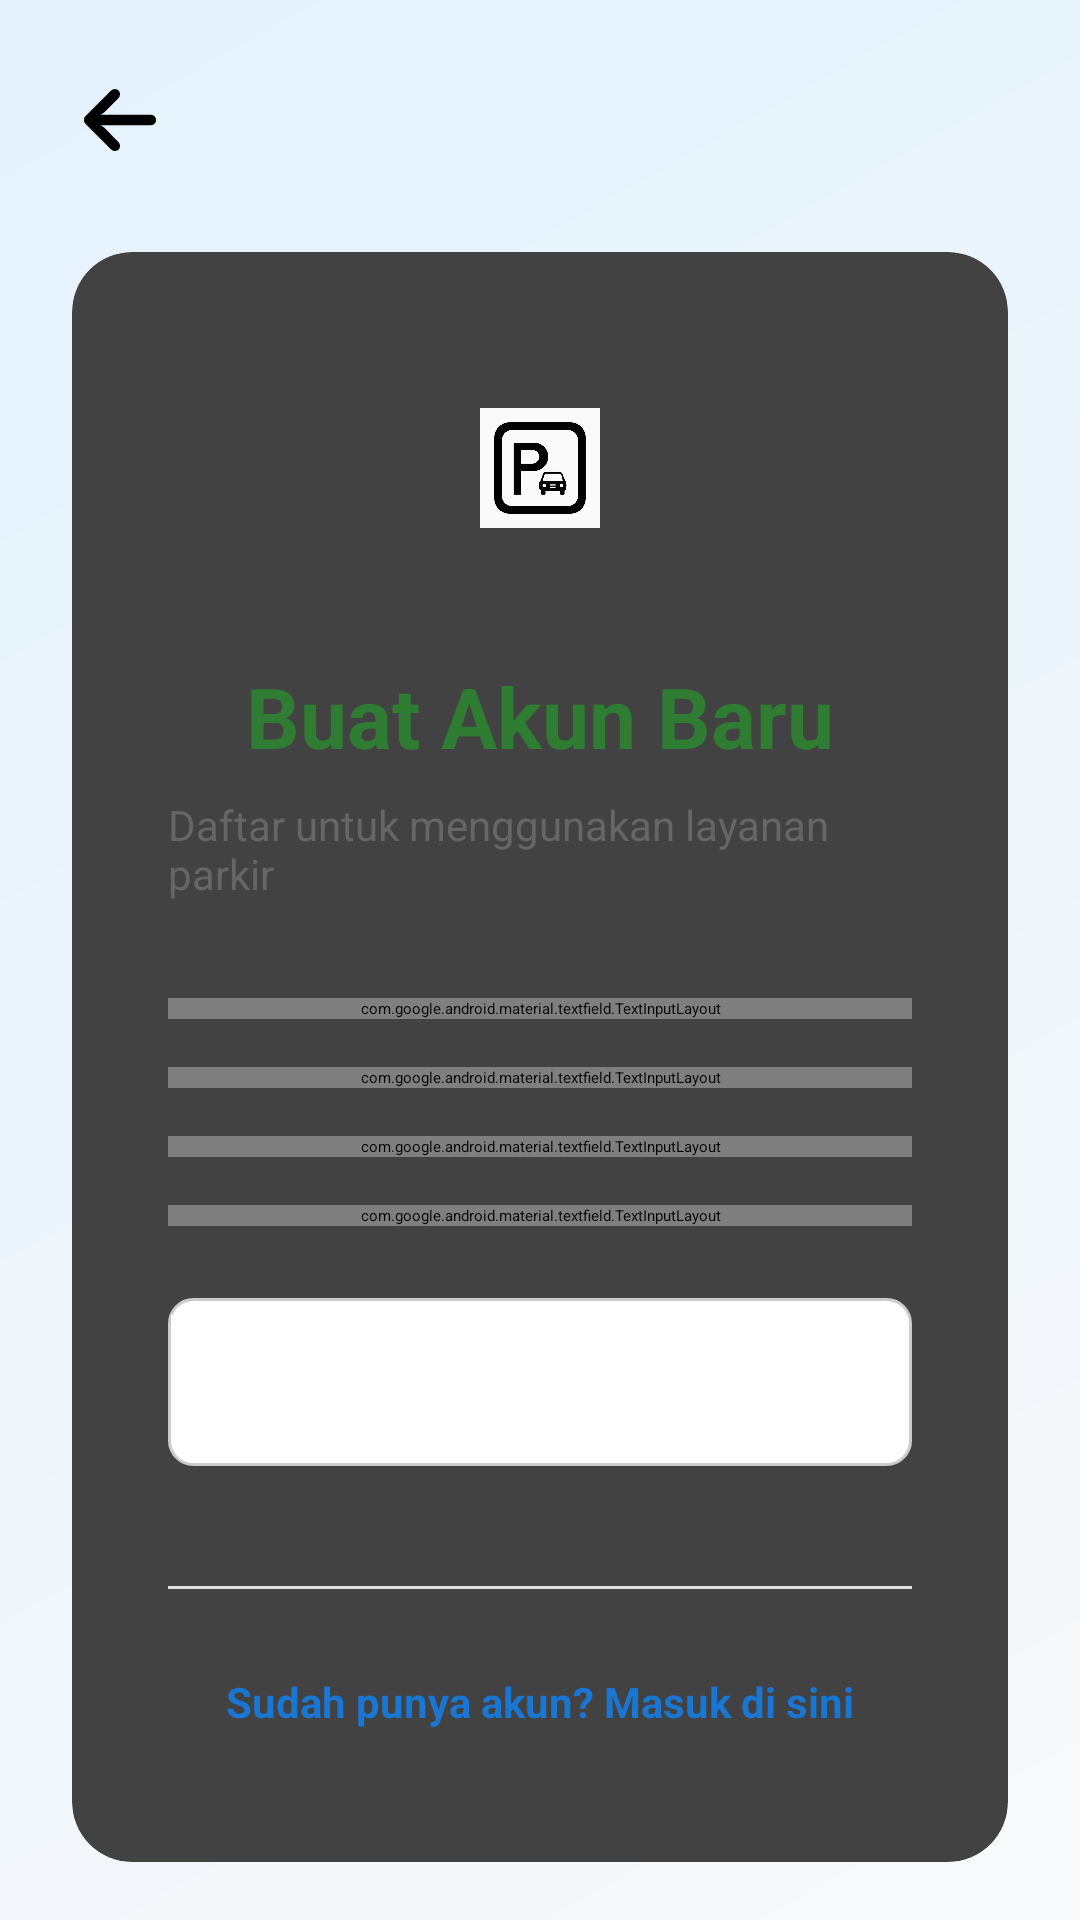

Icon bounding boxes for this 1080px×1920px phone screenshot, format BBox(x1, y1, x2, y2):
arrow: BBox(84, 89, 156, 151)
